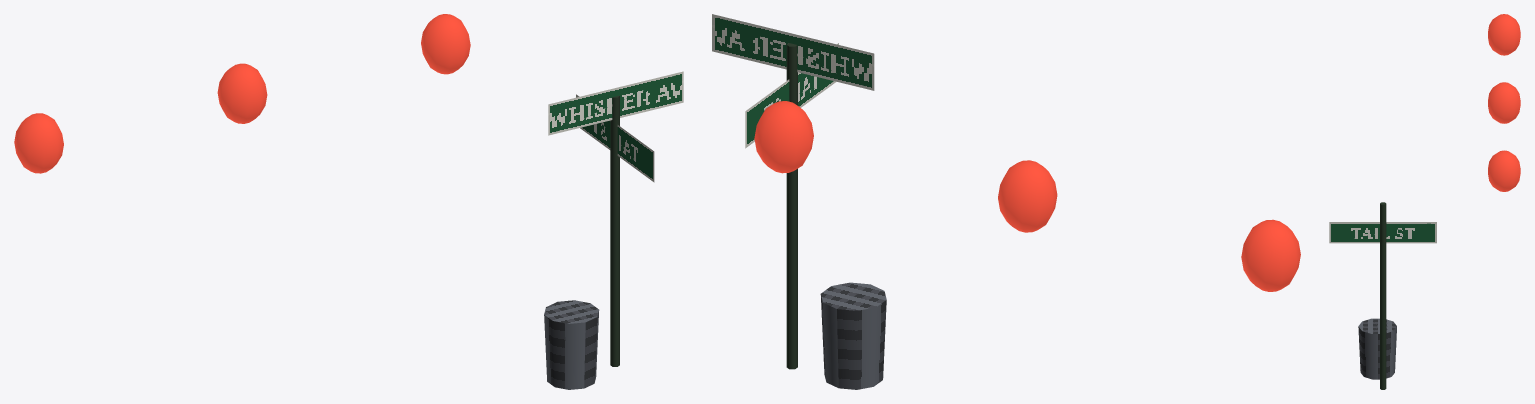
File: Detail_-10_0.glb
3 renders of one model, left to right at view 1: azimuth 30°, elevation 25°; view 2: azimuth 150°, elevation 25°; view 3: azimuth 270°, elevation 25°, orthographic. The views are drawn at different scales.
Parts seen in each view (by area): view 1: Detail_-10_0; view 2: Detail_-10_0; view 3: Detail_-10_0.
Boxes of the visible parts, <box> form: Detail_-10_0: <box>14,14,683,389</box>; Detail_-10_0: <box>712,14,1300,389</box>; Detail_-10_0: <box>1329,14,1520,389</box>.
Bounding box in the file's own units: 8.52 × 4.3 × 3.55.
Materials: 5 (3 with a texture image).
